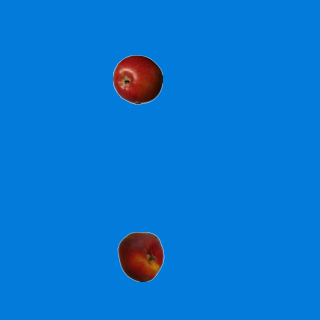Apple Braeburn: (112, 54, 162, 104)
Nectarine Flat: (115, 231, 165, 281)
